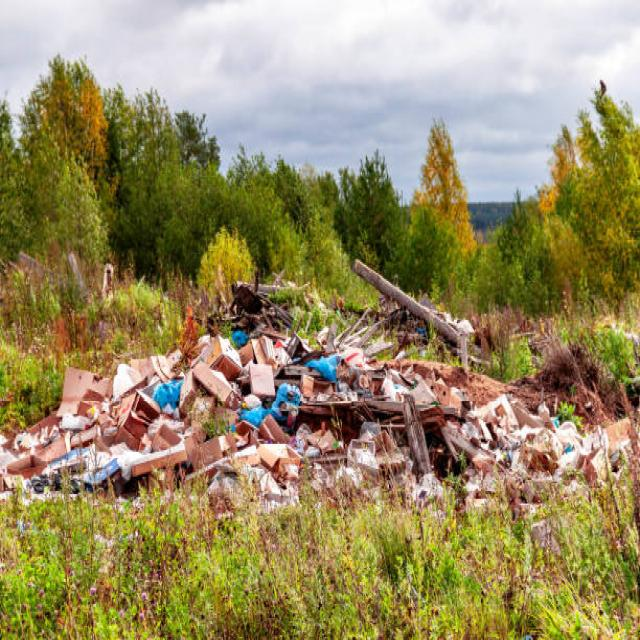cardboard: (40, 326, 588, 507)
